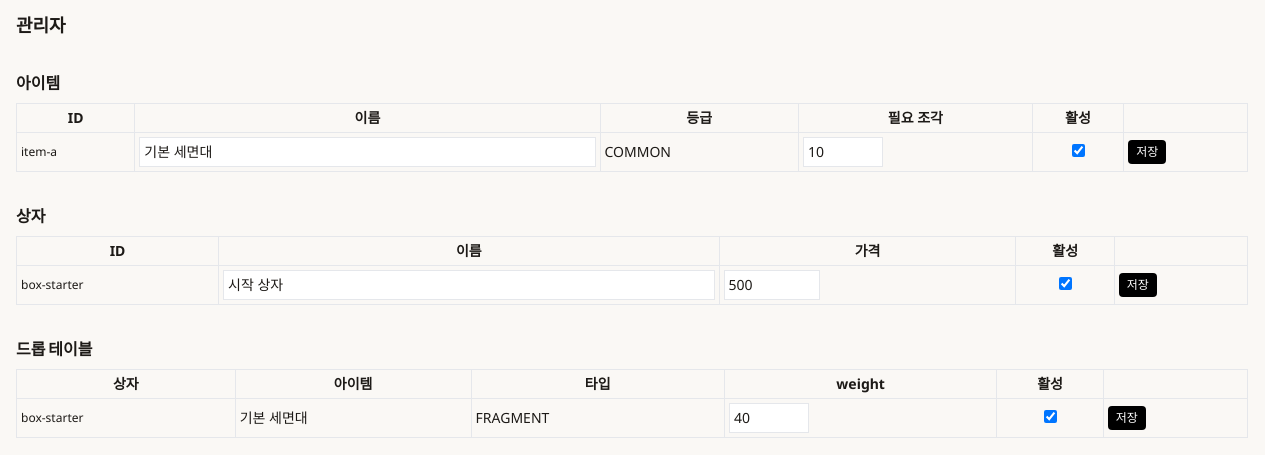
it: AdminPage › a 401 during a later save clears the key and returns to the gate
The width and height of the screenshot is (1265, 455).
Replace the text in the field showing "기본 세면대" next to "item-a" with "변경". click: point(367, 152)
box: x1=139 y1=137 x2=596 y2=167
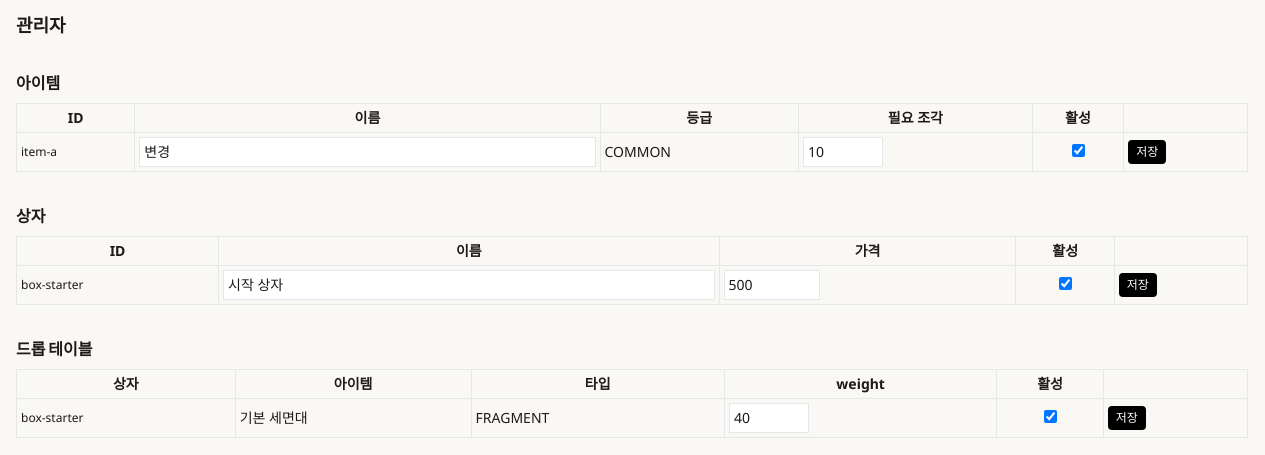
Click the button "저장" in the row of "item-a". click: point(1147, 152)
box: x1=1128 y1=140 x2=1166 y2=164
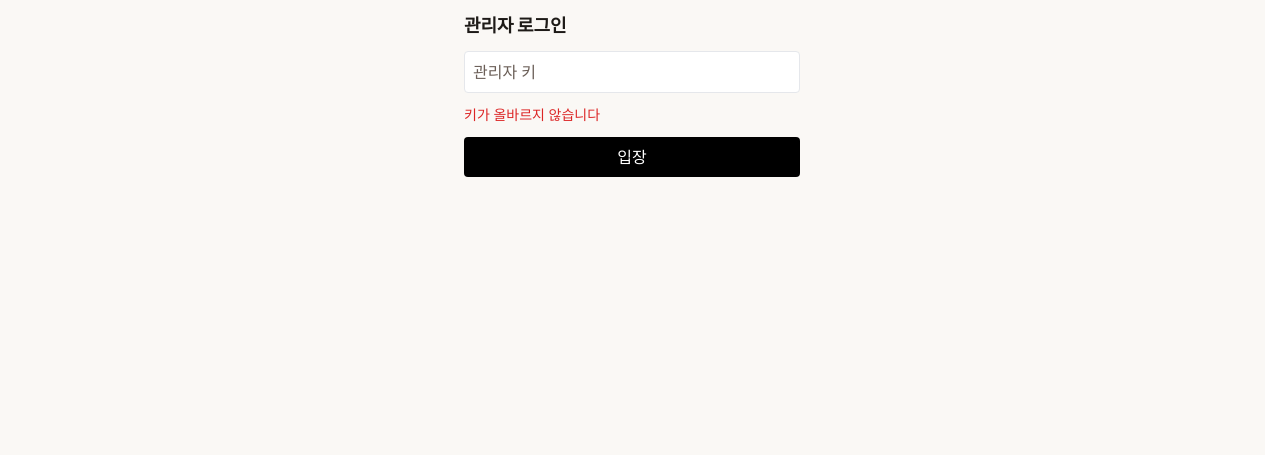
Check: the password field with placeholder "관리자 키" is shown, box x1=464 y1=51 x2=800 y2=93
